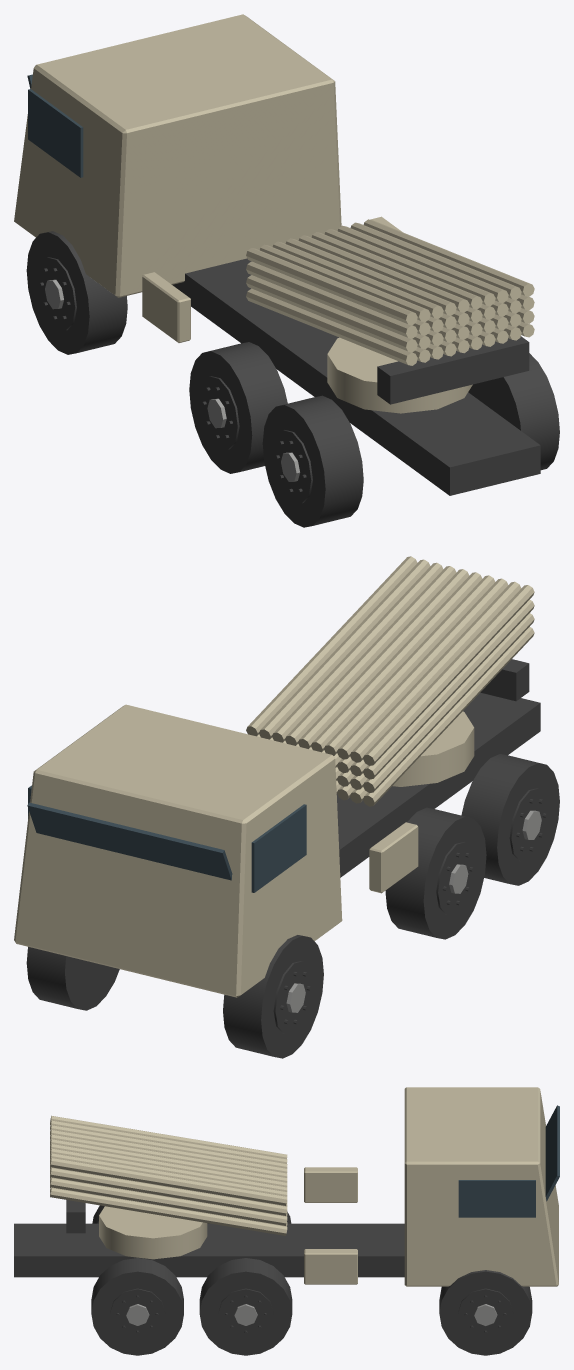
File: rus_mlrs_torg.glb
3 views of the same model, one above another, from view 1: azimuth 30°, elevation 25°; view 2: azimuth 150°, elevation 25°; view 3: azimuth 270°, elevation 25° (orthographic). The views are drawn at different scales.
Parts seen in each view (by area): view 1: body, barrel, wheel_4, wheel_2, wheel_0, wheel_5, turret; view 2: body, barrel, wheel_4, wheel_2, wheel_0, wheel_1, turret; view 3: body, barrel, wheel_3, wheel_5, wheel_1, turret.
Boxes of the visible parts, x1,y1,x2,y2 form: body: [14, 14, 540, 495]; barrel: [246, 219, 534, 404]; wheel_4: [262, 395, 363, 527]; wheel_2: [189, 342, 287, 473]; wheel_0: [26, 231, 127, 354]; wheel_5: [468, 353, 559, 470]; turret: [327, 337, 472, 413]; body: [14, 692, 540, 997]; barrel: [246, 556, 534, 806]; wheel_4: [461, 754, 559, 885]; wheel_2: [385, 807, 486, 939]; wheel_0: [223, 935, 323, 1058]; wheel_1: [26, 947, 119, 1010]; turret: [393, 711, 474, 786]; body: [14, 1087, 559, 1286]; barrel: [50, 1115, 287, 1235]; wheel_3: [199, 1258, 292, 1355]; wheel_5: [91, 1258, 183, 1355]; wheel_1: [439, 1270, 532, 1355]; turret: [99, 1206, 207, 1259].
Bounding box in the file's own units: 2.7 × 2.7 × 7.06.
